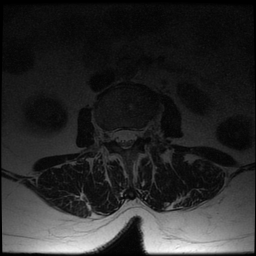CCS_normal: (121, 119, 129, 156)
LFS_normal: (138, 119, 147, 144)
LLS_normal: (129, 119, 138, 150)
RFS_normal: (104, 120, 113, 148)
RLS_normal: (113, 120, 121, 149)
